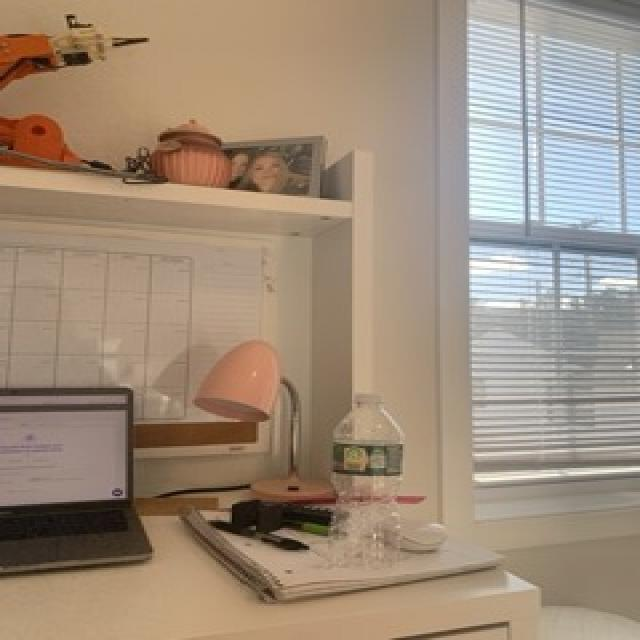water_bottle: (322, 388, 412, 578)
